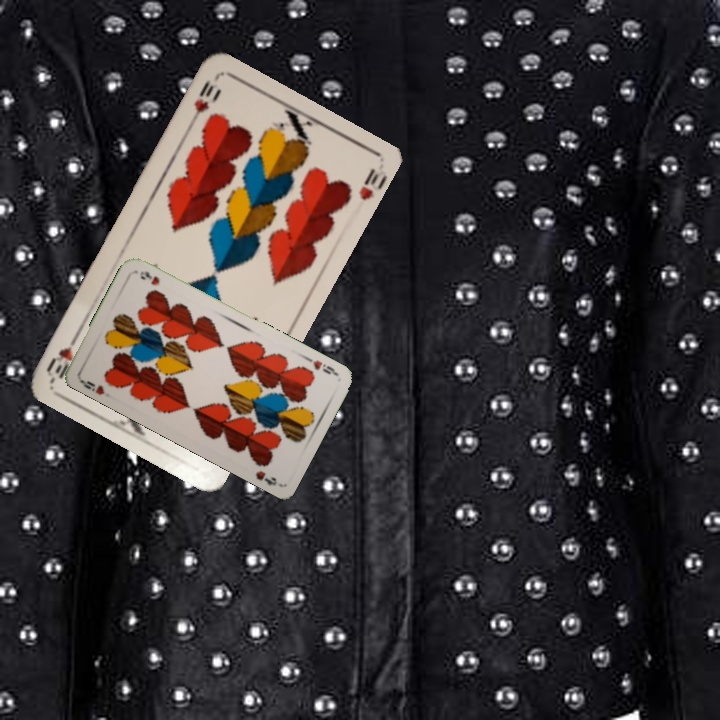H10: (186, 73, 222, 127)
H9: (76, 375, 107, 398), (309, 356, 339, 378)
